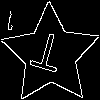T: (25, 30, 67, 82)
